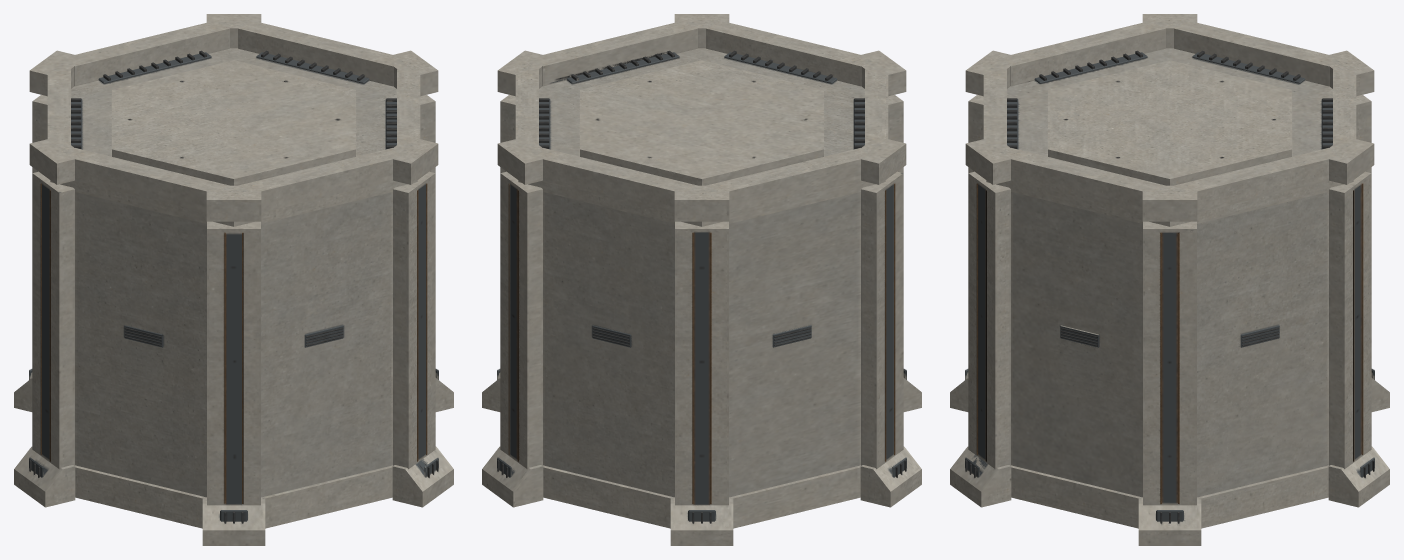
File: pier.glb
3 renders of one model, left to right at view 1: azimuth 30°, elevation 25°; view 2: azimuth 150°, elevation 25°; view 3: azimuth 270°, elevation 25°, orthographic.
Visible parts, largest first — view 1: pier-geometry0, pier-geometry1; view 2: pier-geometry0, pier-geometry1; view 3: pier-geometry0, pier-geometry1.
Part boxes in pixels (x1,y1,x2,y2): pier-geometry0: (15, 15, 451, 543); pier-geometry1: (14, 14, 453, 545); pier-geometry0: (483, 15, 920, 544); pier-geometry1: (482, 14, 921, 545); pier-geometry0: (951, 15, 1387, 544); pier-geometry1: (950, 14, 1389, 545).
Size of the model in its own units: 68.04 by 54 by 63.43.
7 materials, 7 textured.
